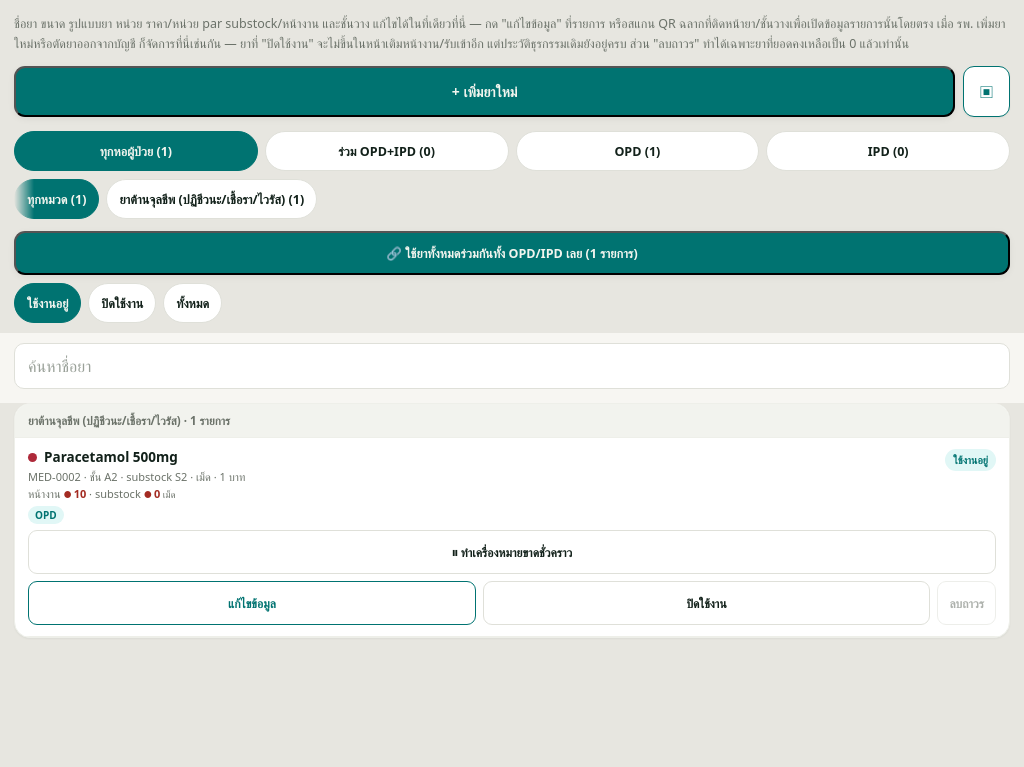
Scenario: MedsScreen — edit-form days-of-stock-left regression › shows "ยังไม่มีสถิติการใช้พอประเมิน" instead of a fabricated number for a med with no usage history
The width and height of the screenshot is (1024, 767).
Click the button "แก้ไขข้อมูล" at (252, 603), box [28,581,476,625]
(page scrolled)
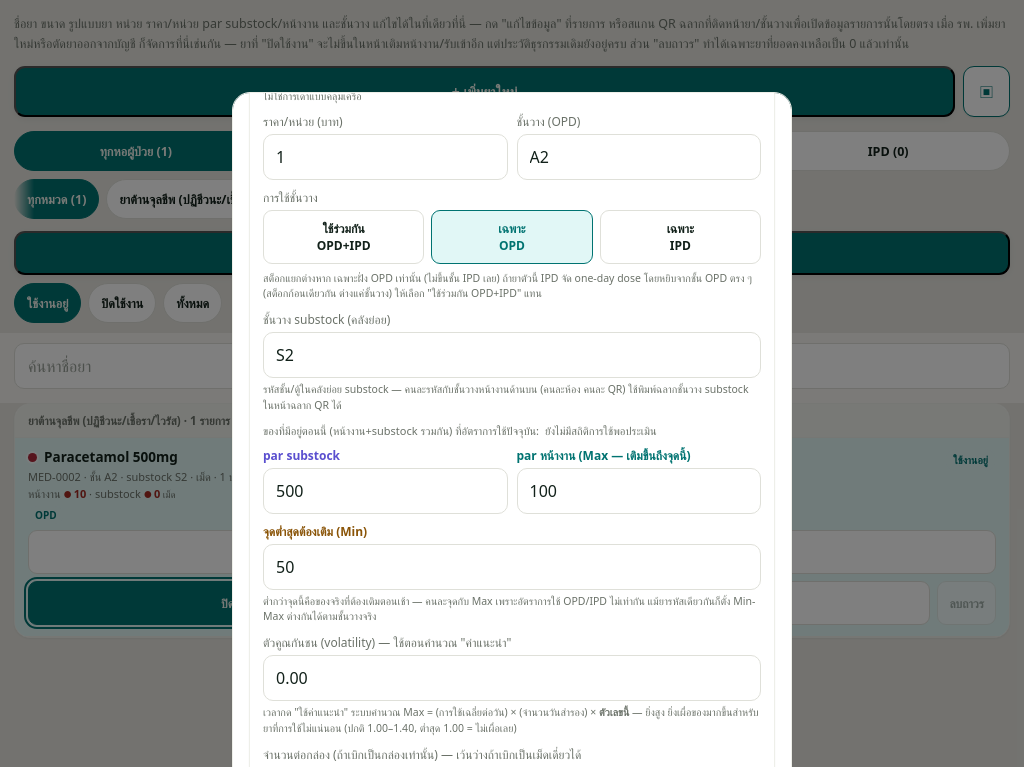
Expected: the text "ยังไม่มีสถิติการใช้พอประเมิน" is shown, [545,422,657,438]
